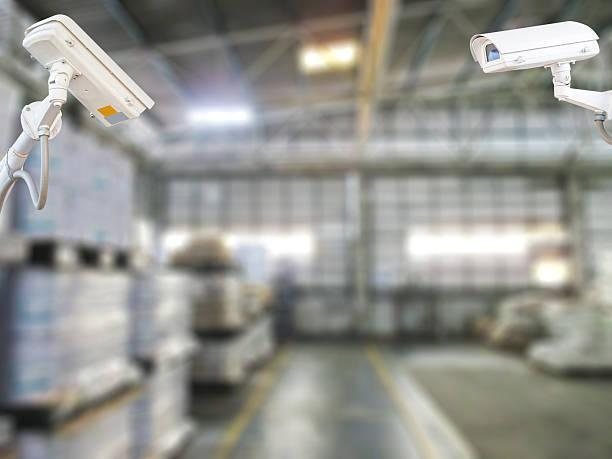camera: (8, 6, 166, 153), (443, 0, 611, 101)
